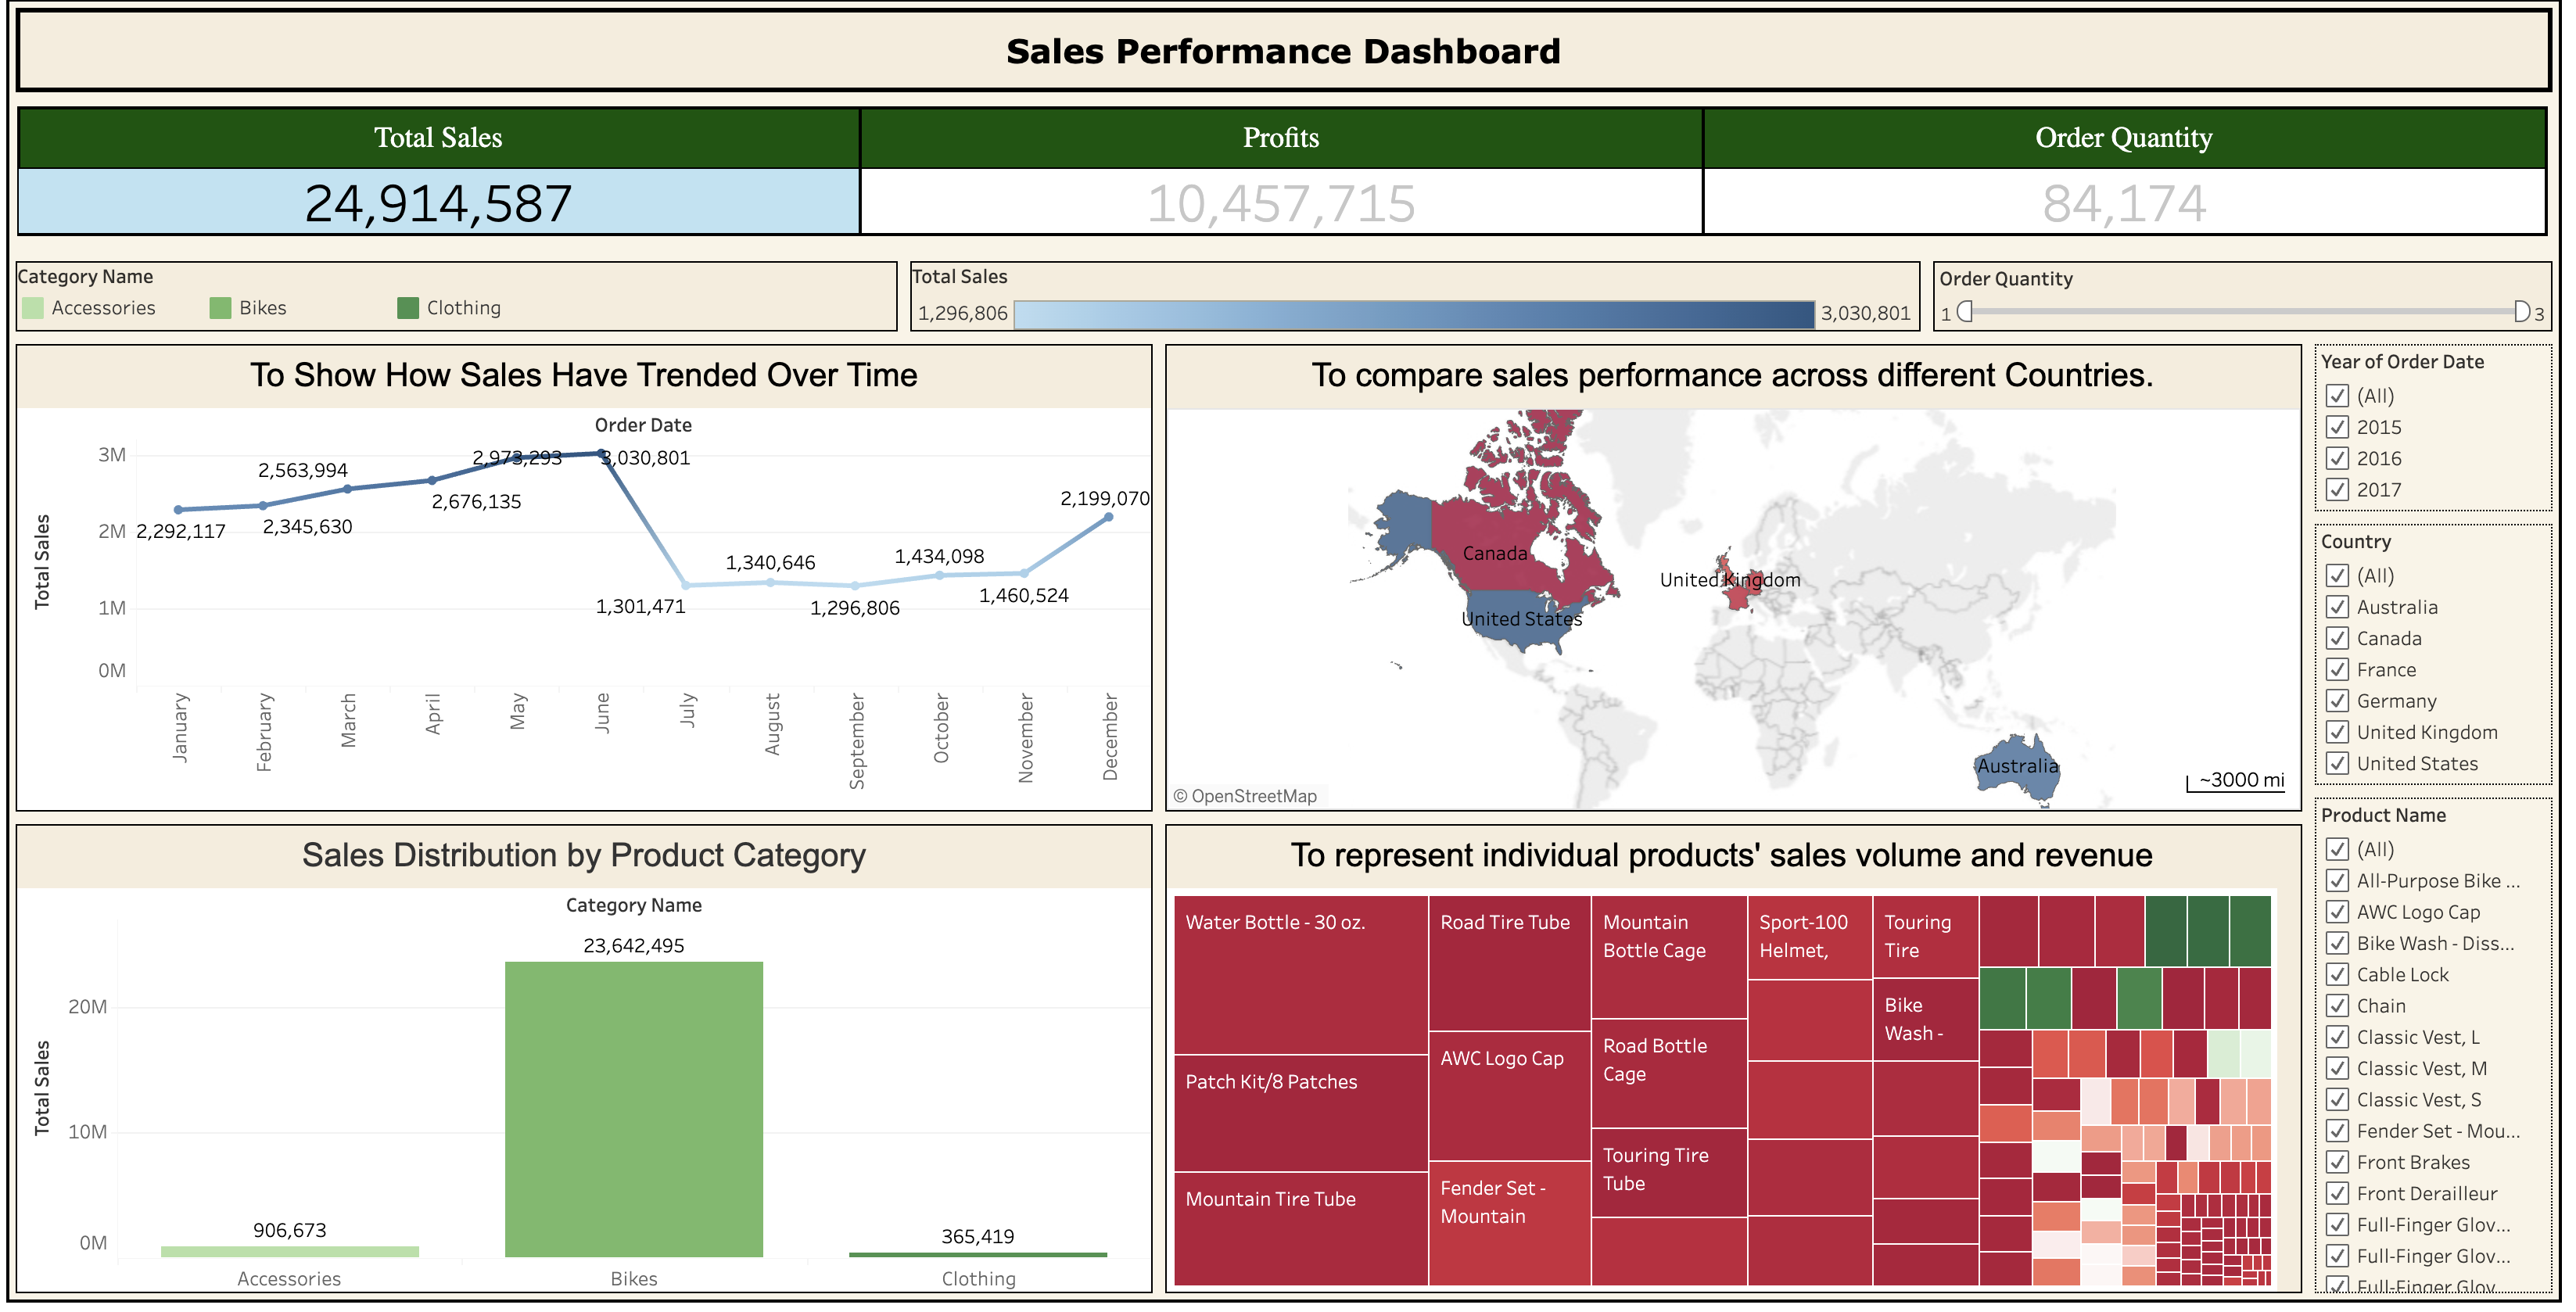

The dashboard page shown, as its layout file describes it:
{"tool":"tableau","page":{"name":"Sales Performance Dashboard","canvas":[1650,850],"ordinal":3},"visuals":[{"type":"text","box":[10,10,1630,61.7]},{"type":"worksheet","title":"KPI-1(Total Sales, Profits, Order Quantity)","mark":"Automatic","box":[10,71.7,1630,100.5]},{"type":"legend","title":"Sales Distribution by Product Category","param":"[federated.08hyrv91nuucvp1eubrd003z43lr].[none:CategoryName:nk]","box":[10,172.2,571.6,52.7]},{"type":"legend","title":"To Show How Sales Have Trended Over Time","param":"[federated.08hyrv91nuucvp1eubrd003z43lr].[usr:Calculation_1433833561043546114:qk","box":[581.6,172.2,654.4,52.7]},{"type":"filter","title":"To represent individual products' sales volume and revenue","param":"[federated.08hyrv91nuucvp1eubrd003z43lr].[ctd:OrderQuantity:qk]","box":[1236,172.2,404,52.7]},{"type":"worksheet","title":"To Show How Sales Have Trended Over Time","mark":"Automatic","rows":["Calculation_1433833561043546114"],"cols":["OrderDate"],"box":[10,225,735,307.5]},{"type":"worksheet","title":"To compare sales performance across different Countries.","mark":"Automatic","box":[745,225,735,307.5]},{"type":"filter","title":"To Show How Sales Have Trended Over Time","param":"[federated.08hyrv91nuucvp1eubrd003z43lr].[yr:OrderDate:ok]","box":[1480,225,160,130]},{"type":"filter","title":"To compare sales performance across different Countries.","param":"[federated.08hyrv91nuucvp1eubrd003z43lr].[none:Country:nk]","box":[1480,355,160,199]},{"type":"worksheet","title":"Sales Distribution by Product Category","mark":"Automatic","rows":["Calculation_1433833561043546114"],"cols":["CategoryName"],"box":[10,532.5,735,307.5]},{"type":"worksheet","title":"To represent individual products' sales volume and revenue","mark":"Automatic","box":[745,532.5,735,307.5]},{"type":"filter","title":"To represent individual products' sales volume and revenue","param":"[federated.08hyrv91nuucvp1eubrd003z43lr].[none:ProductName:nk]","box":[1480,554,160,286]}]}

Visuals, with their boxes in screenshot pixels (x1, y1, x2, y2), scaled from the page's 1650x850 canvas onto the 2576x1312 screenshot:
text: (x1=16, y1=16, x2=2560, y2=111)
"KPI-1(Total Sales, Profits, Order Quantity)" worksheet: (x1=16, y1=111, x2=2560, y2=266)
"Sales Distribution by Product Category" legend: (x1=16, y1=266, x2=908, y2=347)
"To Show How Sales Have Trended Over Time" legend: (x1=908, y1=266, x2=1930, y2=347)
"To represent individual products' sales volume and revenue" filter: (x1=1930, y1=266, x2=2560, y2=347)
"To Show How Sales Have Trended Over Time" worksheet: (x1=16, y1=347, x2=1163, y2=822)
"To compare sales performance across different Countries." worksheet: (x1=1163, y1=347, x2=2311, y2=822)
"To Show How Sales Have Trended Over Time" filter: (x1=2311, y1=347, x2=2560, y2=548)
"To compare sales performance across different Countries." filter: (x1=2311, y1=548, x2=2560, y2=855)
"Sales Distribution by Product Category" worksheet: (x1=16, y1=822, x2=1163, y2=1296)
"To represent individual products' sales volume and revenue" worksheet: (x1=1163, y1=822, x2=2311, y2=1296)
"To represent individual products' sales volume and revenue" filter: (x1=2311, y1=855, x2=2560, y2=1296)
